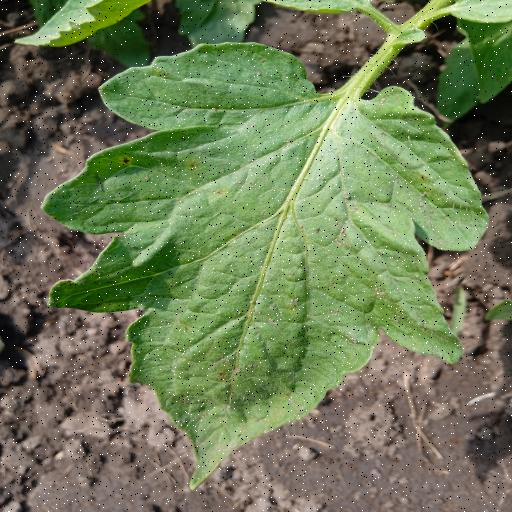Tomato_Brown_Spots: (40, 40, 488, 498)
